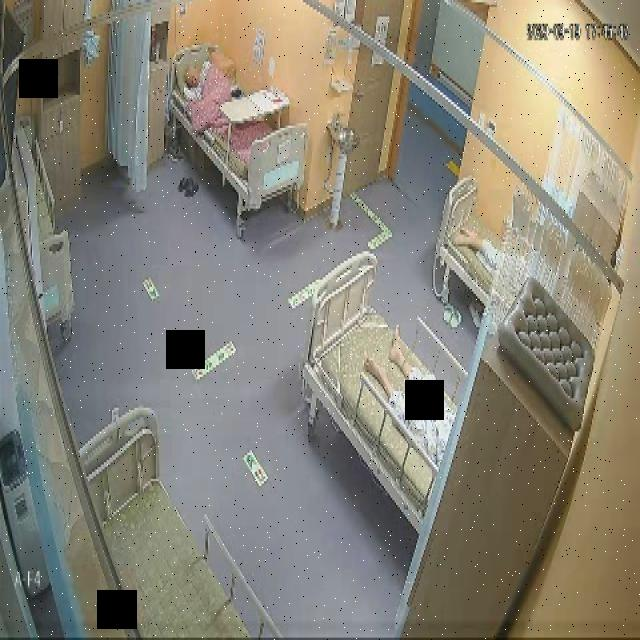bed: (79, 403, 283, 640), (304, 253, 458, 526), (170, 45, 306, 208), (436, 178, 502, 306)
lie: (364, 322, 458, 466), (180, 54, 262, 138)
patient: (364, 323, 458, 466), (181, 55, 216, 106)
